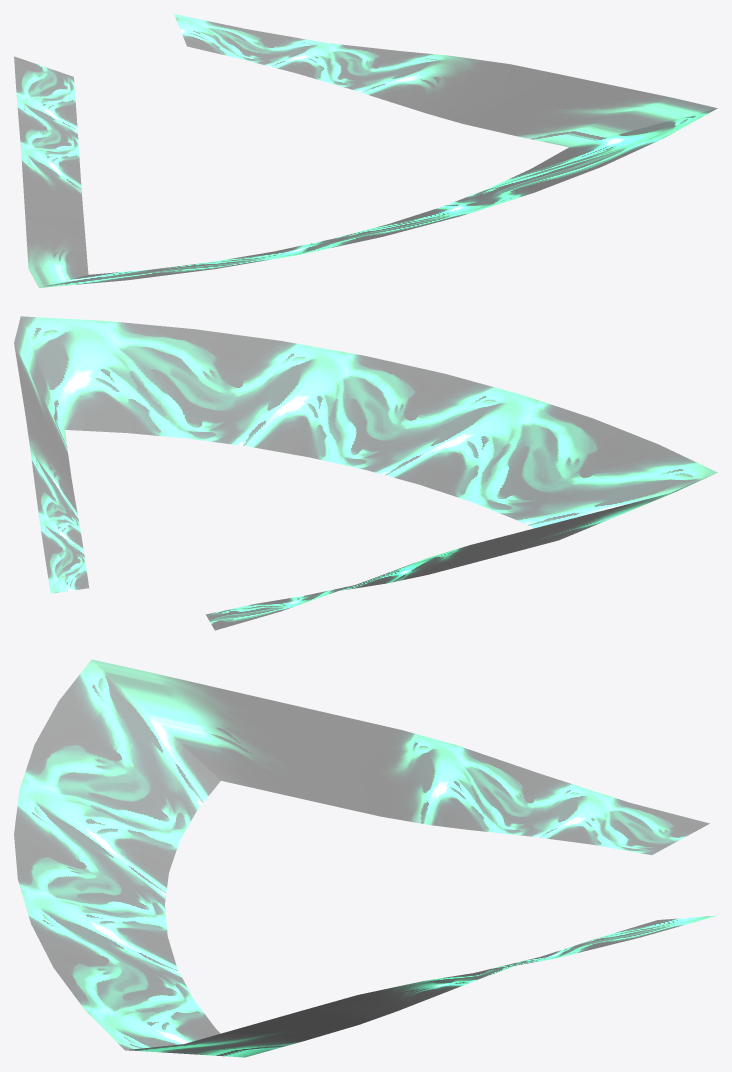
Rendered from BossAttack3.fbx.
3 renders of one model, top to bottom at view 1: azimuth 30°, elevation 25°; view 2: azimuth 150°, elevation 25°; view 3: azimuth 270°, elevation 25°, orthographic. The views are drawn at different scales.
Visible parts, largest first — view 1: meshvfx:polySurface2; view 2: meshvfx:polySurface2; view 3: meshvfx:polySurface2.
Boxes of the visible parts, x1,y1,x2,y2 form: meshvfx:polySurface2: (14, 14, 717, 287); meshvfx:polySurface2: (14, 316, 717, 630); meshvfx:polySurface2: (14, 659, 716, 1057).
Size of the model in its own units: 2680 by 198 by 2041.
